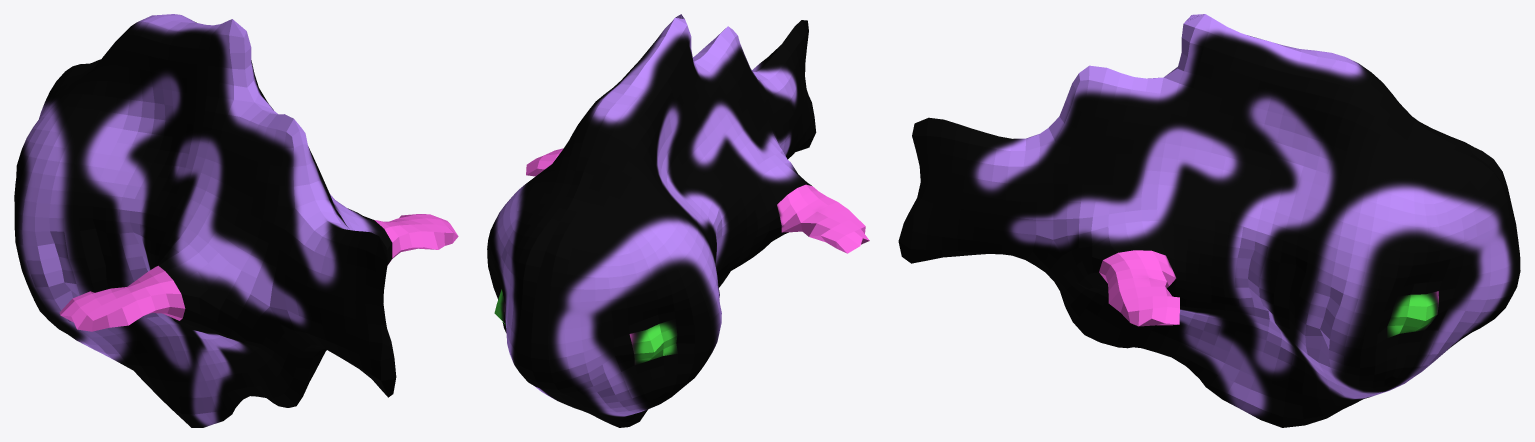
File: remeshed.glb
The picture shows the model from 3 angles, left to right: view 1: azimuth 30°, elevation 25°; view 2: azimuth 150°, elevation 25°; view 3: azimuth 270°, elevation 25°; orthographic projection. The views are drawn at different scales.
Parts seen in each view (by area): view 1: Quad Sphere; view 2: Quad Sphere; view 3: Quad Sphere.
Boxes of the visible parts, bbox=[...] form: Quad Sphere: bbox=[14, 14, 458, 427]; Quad Sphere: bbox=[487, 14, 869, 427]; Quad Sphere: bbox=[898, 14, 1520, 427].
Size of the model in its own units: 3.45 by 3.73 by 5.08.
Materials: 1 (1 with a texture image).
